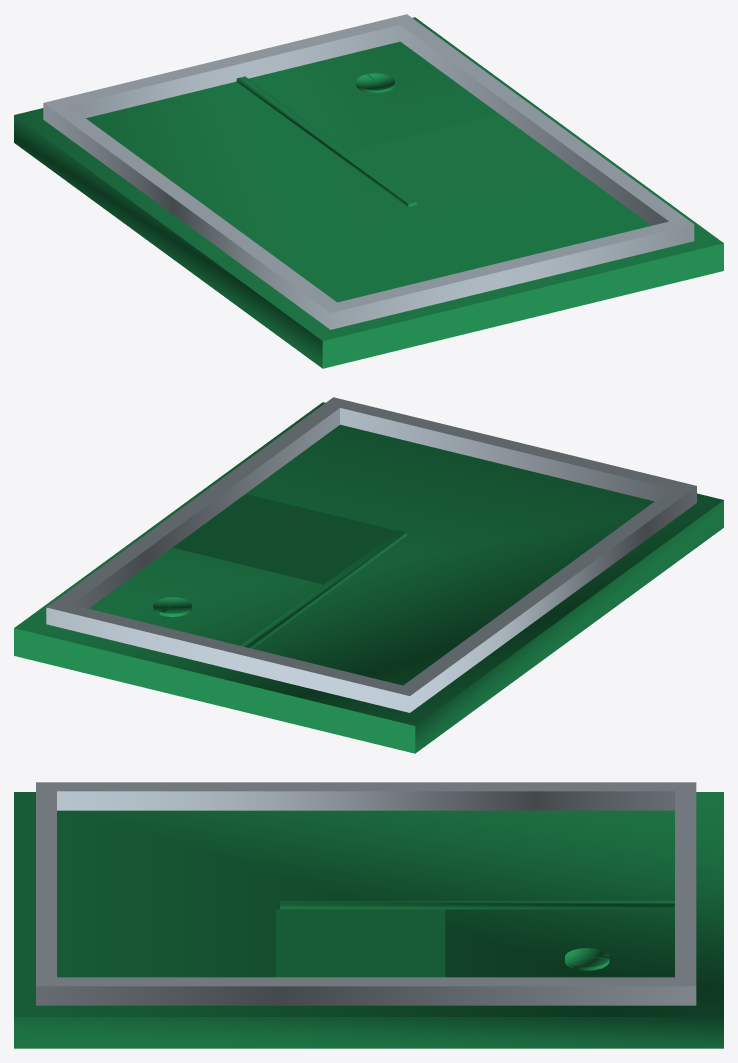
Rendered from Level33.fbx.
3 renders of one model, top to bottom at view 1: azimuth 30°, elevation 25°; view 2: azimuth 150°, elevation 25°; view 3: azimuth 270°, elevation 25°, orthographic. The views are drawn at different scales.
Visible parts, largest first — view 1: Box002, Rectangle0; view 2: Box002, Rectangle0; view 3: Box002, Rectangle0.
Boxes of the visible parts, <box> form: Box002: <box>14,17,723,368</box>; Rectangle0: <box>43,14,694,329</box>; Box002: <box>14,402,723,753</box>; Rectangle0: <box>46,397,696,712</box>; Box002: <box>14,792,723,1048</box>; Rectangle0: <box>36,782,696,1005</box>.
Size of the model in its own units: 135 by 14.27 by 180.
